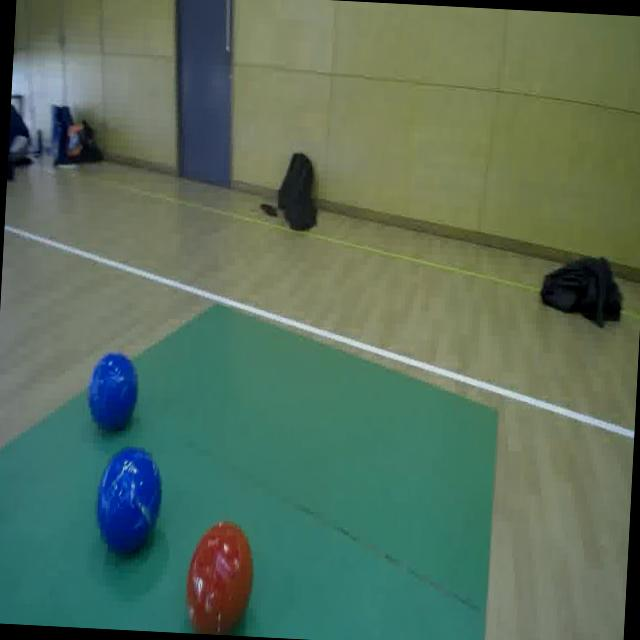blue_ball: (92, 444, 164, 560), (86, 350, 142, 434)
red_ball: (184, 514, 258, 636)
